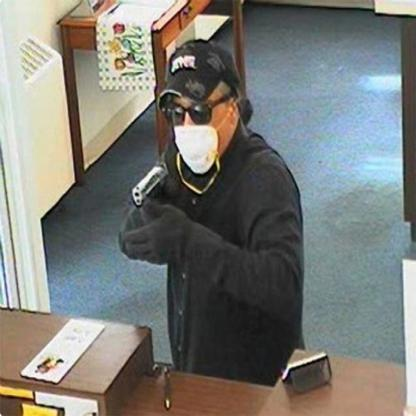pistols: (126, 162, 186, 242)
